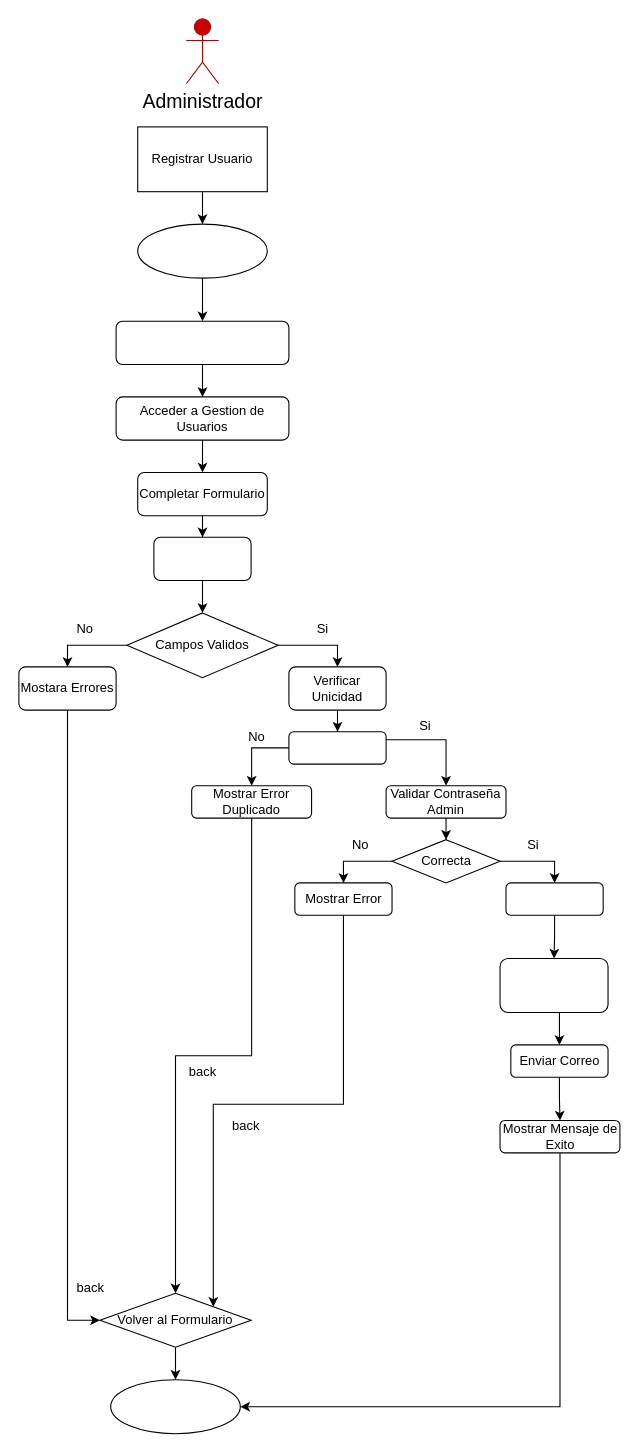
This 639x1453 diagram has some shape labels left out. Here are the shapes that lost their labels. From the top down, the box of each, then its label:
(137, 223, 267, 278): Inicio
(115, 320, 289, 364): Accecder Gestion de Usuario
(153, 536, 251, 580): Validar Campos
(288, 731, 386, 764): ¿Usuario Unico?
(505, 882, 603, 915): Registar Usuario en BD
(499, 957, 608, 1013): Generar Contraseña Temporal
(110, 1379, 240, 1434): Fin
